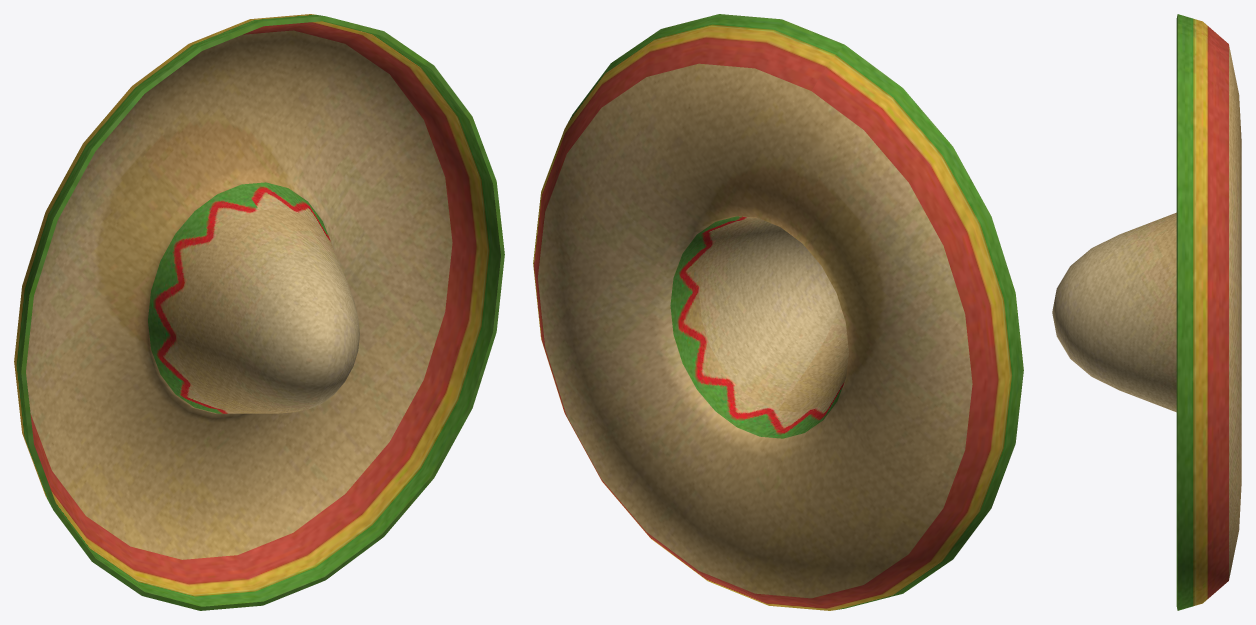
Rendered from Headwear23.glb.
The picture shows the model from 3 angles, left to right: view 1: azimuth 30°, elevation 25°; view 2: azimuth 150°, elevation 25°; view 3: azimuth 270°, elevation 25°; orthographic projection. The views are drawn at different scales.
Visible parts, largest first — view 1: Headwear23; view 2: Headwear23; view 3: Headwear23.
Boxes of the visible parts, box(x1,y1,x2,y2) form: Headwear23: box(14, 14, 504, 610); Headwear23: box(533, 14, 1023, 610); Headwear23: box(1052, 14, 1241, 610).
Size of the model in its own units: 4.6 by 5.31 by 1.64.
Materials: 1 (1 with a texture image).
